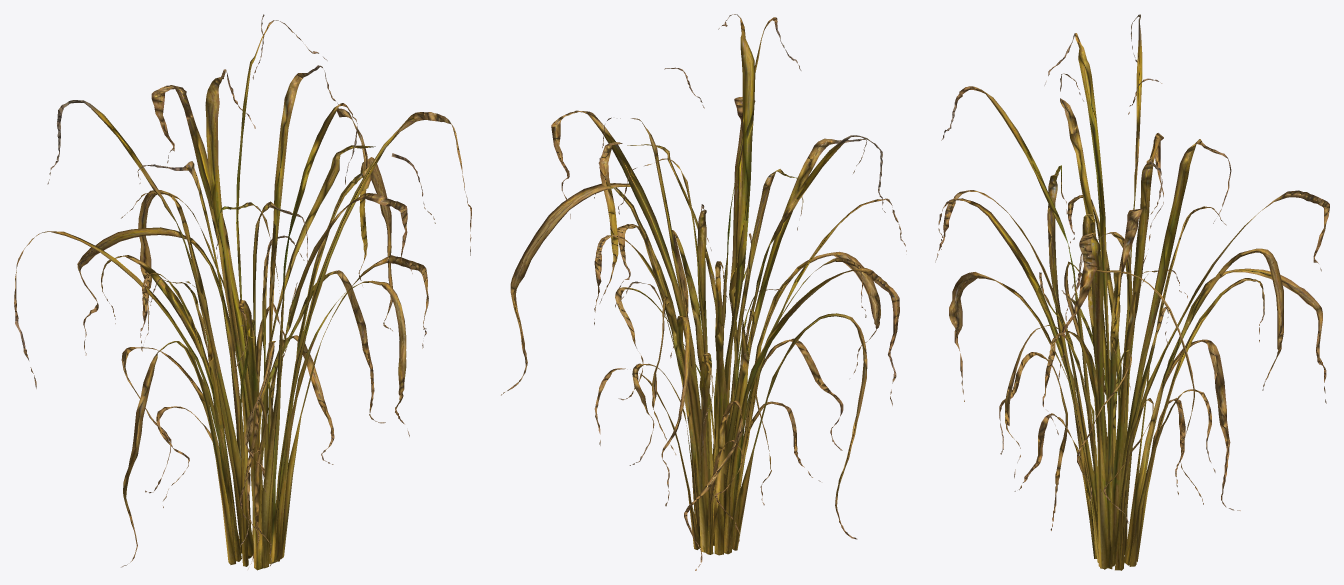
File: sui_wither_002.glb
3 renders of one model, left to right at view 1: azimuth 30°, elevation 25°; view 2: azimuth 150°, elevation 25°; view 3: azimuth 270°, elevation 25°, orthographic. The views are drawn at different scales.
Parts seen in each view (by area): view 1: tripo_node_17baa445-05e3-4cc4-88b4-532cd4c8b095; view 2: tripo_node_17baa445-05e3-4cc4-88b4-532cd4c8b095; view 3: tripo_node_17baa445-05e3-4cc4-88b4-532cd4c8b095.
Boxes of the visible parts, x1,y1,x2,y2 form: tripo_node_17baa445-05e3-4cc4-88b4-532cd4c8b095: [14, 14, 471, 570]; tripo_node_17baa445-05e3-4cc4-88b4-532cd4c8b095: [501, 14, 906, 570]; tripo_node_17baa445-05e3-4cc4-88b4-532cd4c8b095: [935, 14, 1329, 570].
Bounding box in the file's own units: 0.4614 × 0.6 × 0.4051.
Materials: 1 (1 with a texture image).
